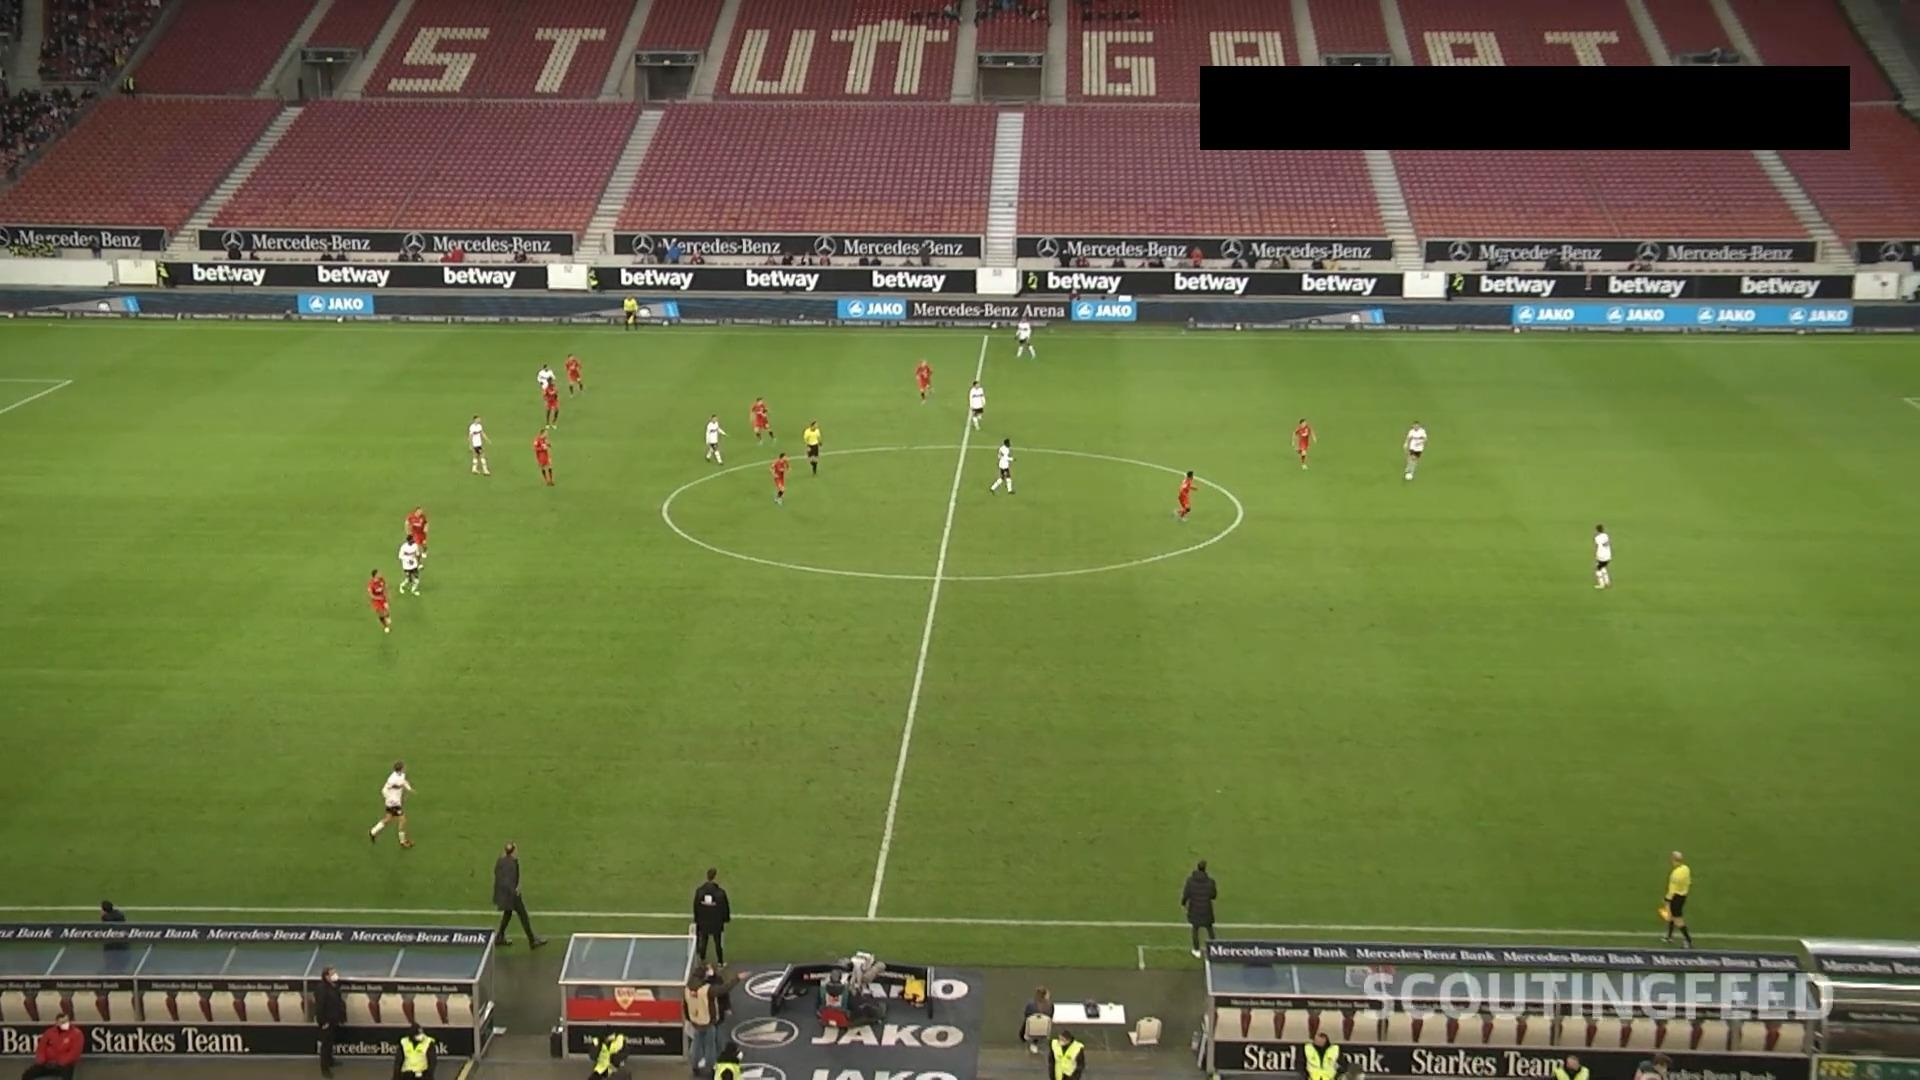ball: (1404, 469, 1415, 481)
